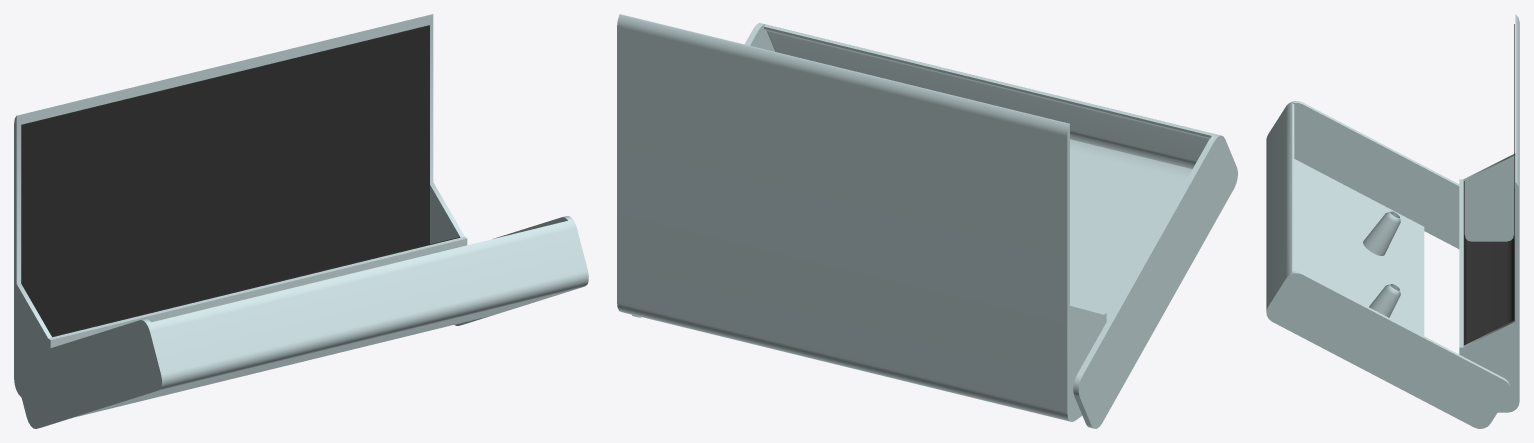
Rendered from CassetteCover_Test.fbx.
3 views of the same model, side by side, from view 1: azimuth 30°, elevation 25°; view 2: azimuth 150°, elevation 25°; view 3: azimuth 270°, elevation 25° (orthographic). The views are drawn at different scales.
Visible parts, largest first — view 1: polySurface15, polySurface16, polySurface11; view 2: polySurface11, polySurface16; view 3: polySurface16, polySurface11, polySurface15.
Boxes of the visible parts, x1,y1,x2,y2 form: polySurface15: [21, 25, 459, 337]; polySurface16: [14, 216, 588, 428]; polySurface11: [14, 14, 467, 397]; polySurface11: [617, 14, 1106, 421]; polySurface16: [632, 23, 1237, 428]; polySurface16: [1266, 101, 1510, 428]; polySurface11: [1459, 14, 1519, 412]; polySurface15: [1464, 24, 1514, 345].
Bounding box in the file's own units: 10.8 × 7.15 × 6.7.
